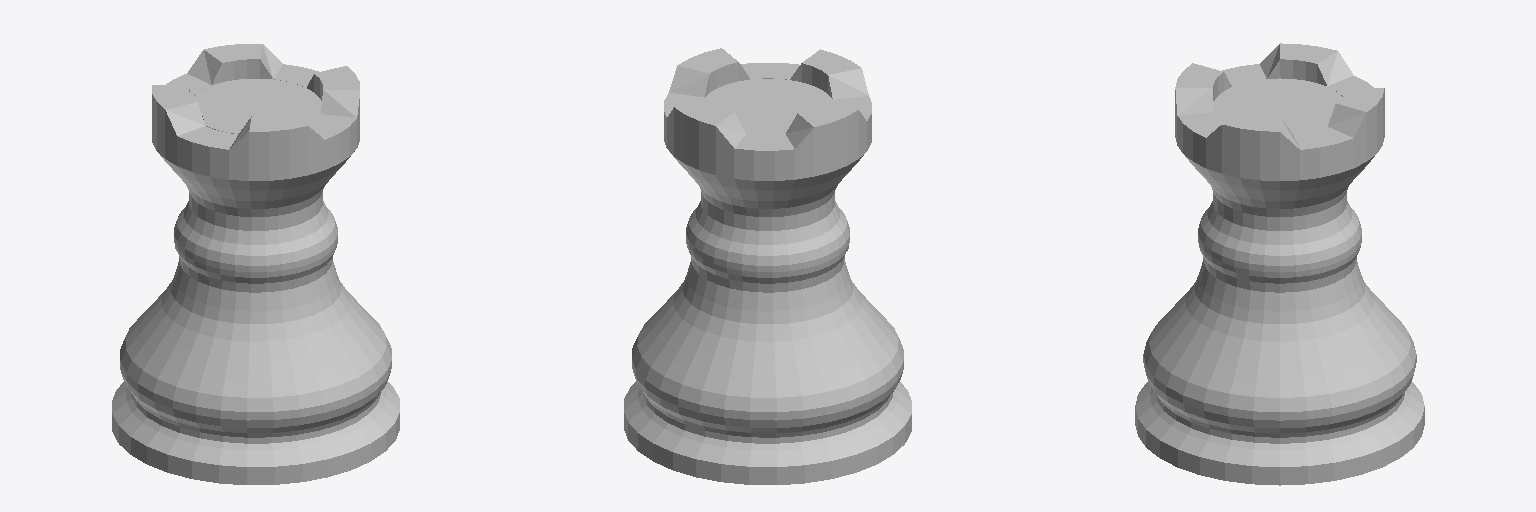
File: rook.obj
3 renders of one model, left to right at view 1: azimuth 30°, elevation 25°; view 2: azimuth 150°, elevation 25°; view 3: azimuth 270°, elevation 25°, orthographic.
Parts seen in each view (by area): view 1: Cylinder; view 2: Cylinder; view 3: Cylinder.
Boxes of the visible parts, x1=… form: Cylinder: x1=112, y1=44, x2=399, y2=484; Cylinder: x1=624, y1=48, x2=911, y2=484; Cylinder: x1=1135, y1=43, x2=1424, y2=485.
Size of the model in its own units: 0.9819 by 1.26 by 0.9819.